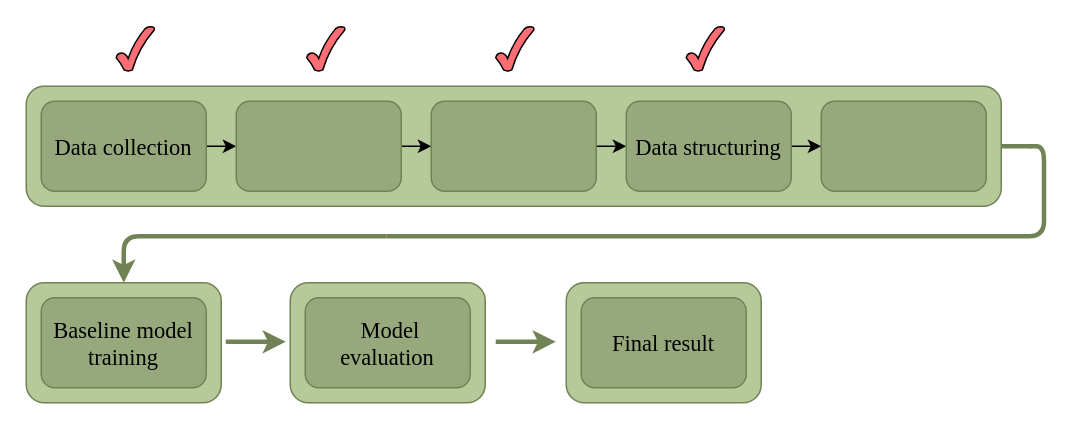
The diagram is 1074 pixels wide and 429 high, and some of its shapes have lost their labels. Here are the shapes that lost their labels. From the top down, the box of each, then its label:
(235, 100, 401, 191): Data discovery and profiling
(430, 100, 596, 191): Data cleansing
(820, 100, 986, 191): Data transformation and enrichment
